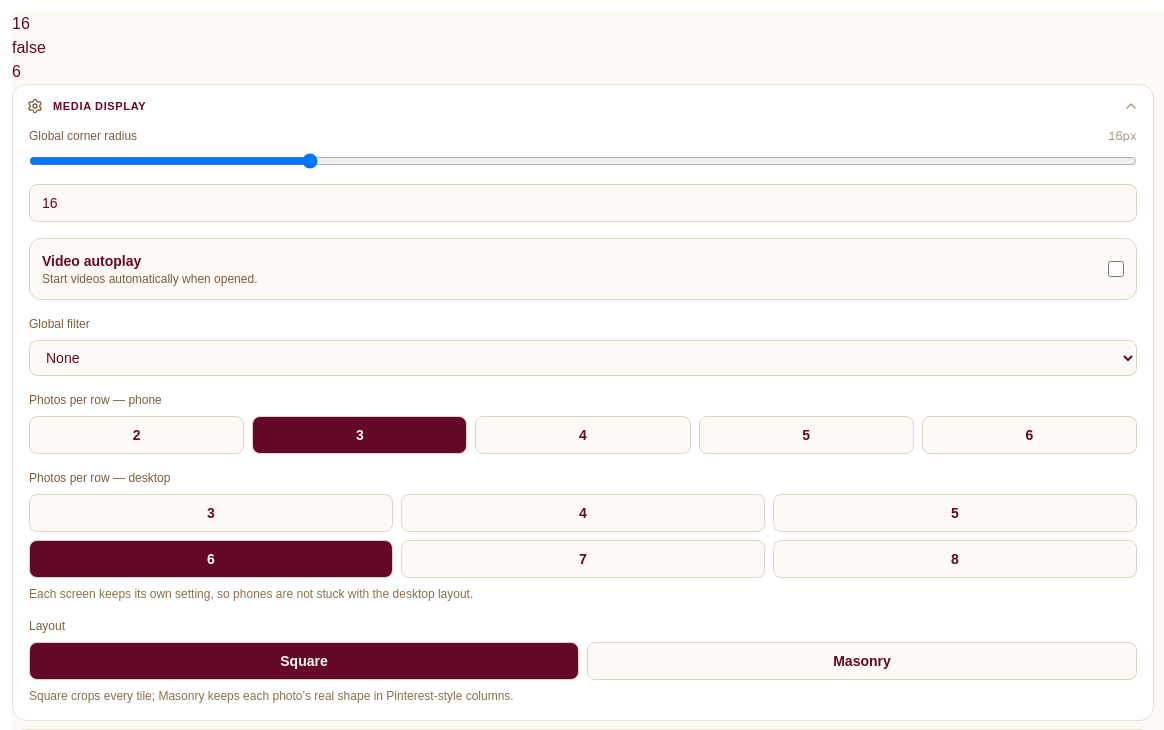
Test: MediaSettingsPanels -- what goes on the wire › the server clamping what was sent is honoured: the slider shows the clamp and nothing re-sends
The width and height of the screenshot is (1164, 730).
Set the slider to "40": (720, 160) [29, 152, 1137, 168]
Wait 1500 ms
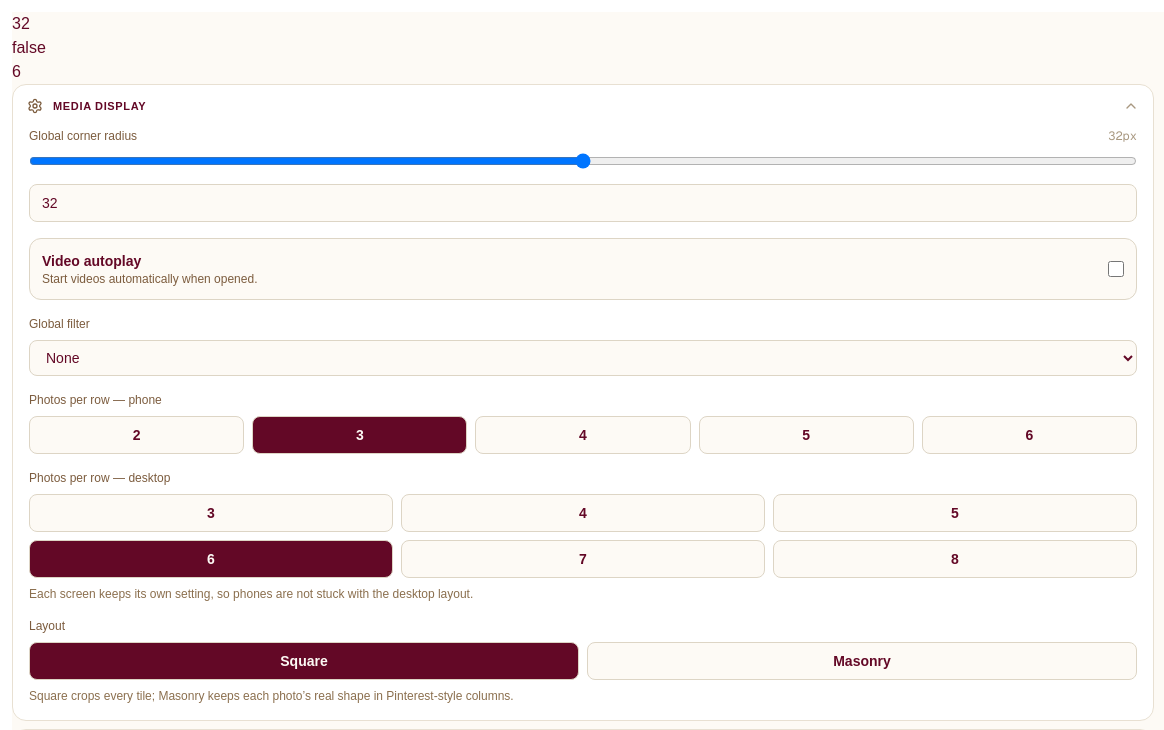
Expected: the slider holds "32", [29, 152, 1137, 168]
Expected: the text with test id "album-radius" reads "32", [12, 15, 30, 32]
